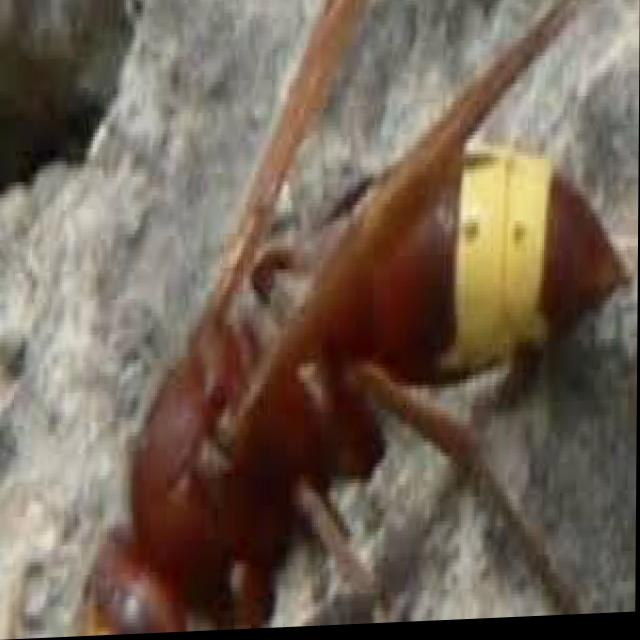Vespa Orientalis: (37, 0, 638, 635)
